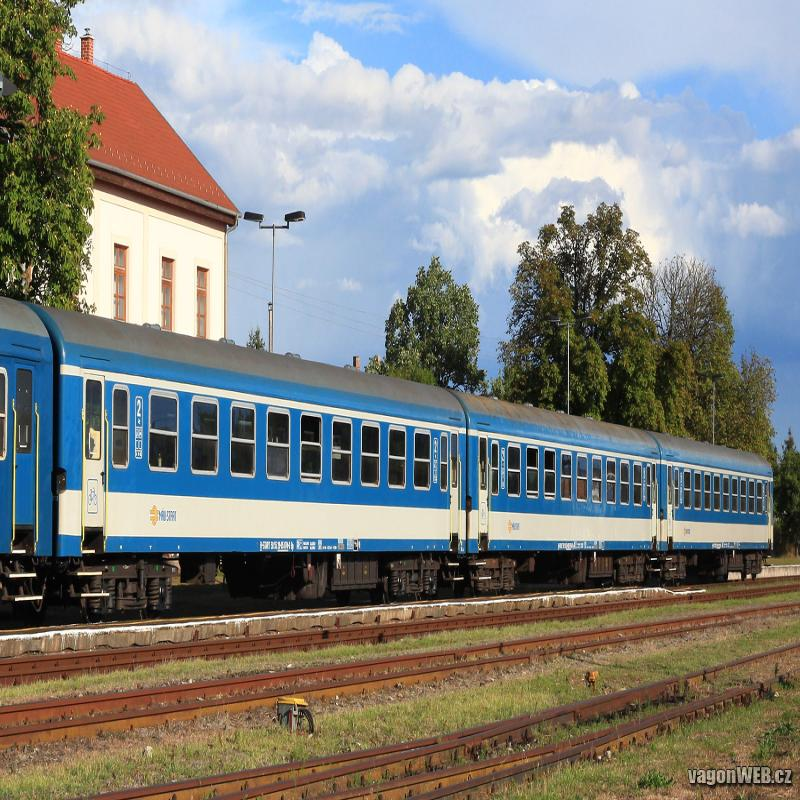train: (30, 304, 468, 619), (447, 388, 662, 595), (645, 428, 775, 584)
